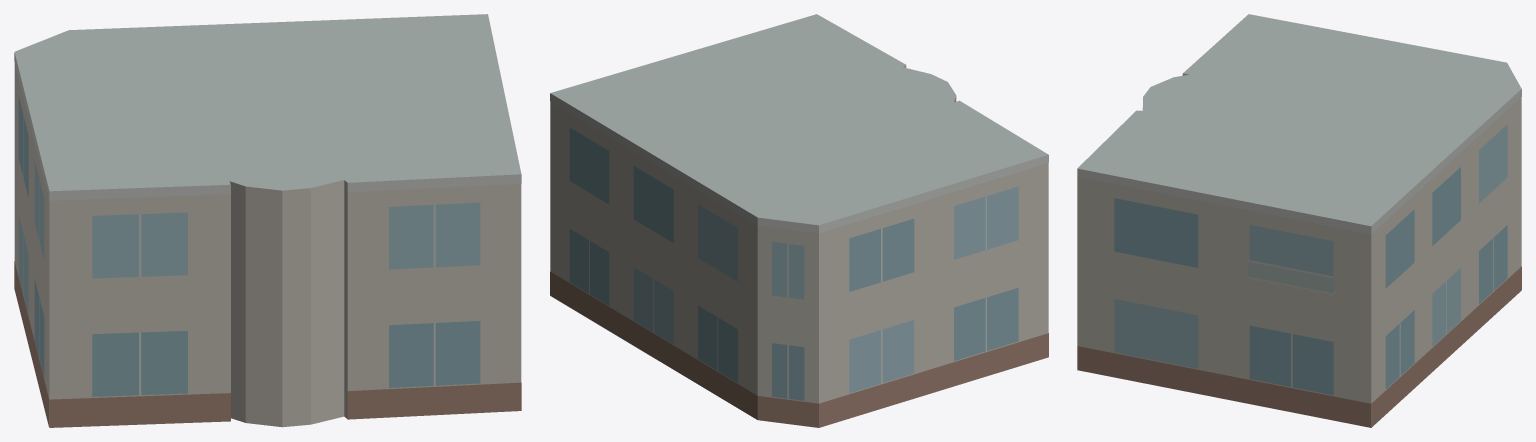
File: survey-upis-32509101.glb
3 views of the same model, side by side, from view 1: azimuth 30°, elevation 25°; view 2: azimuth 150°, elevation 25°; view 3: azimuth 270°, elevation 25° (orthographic). The views are drawn at different scales.
Visible parts, largest first — view 1: survey-upis-32509101.tmp; view 2: survey-upis-32509101.tmp; view 3: survey-upis-32509101.tmp.
Part boxes in pixels (box(x1,y1,x2,y2)): survey-upis-32509101.tmp: box(14, 14, 521, 427); survey-upis-32509101.tmp: box(550, 14, 1048, 427); survey-upis-32509101.tmp: box(1077, 14, 1521, 427).
Bounding box in the file's own units: 13.79 × 6.1 × 12.2.
